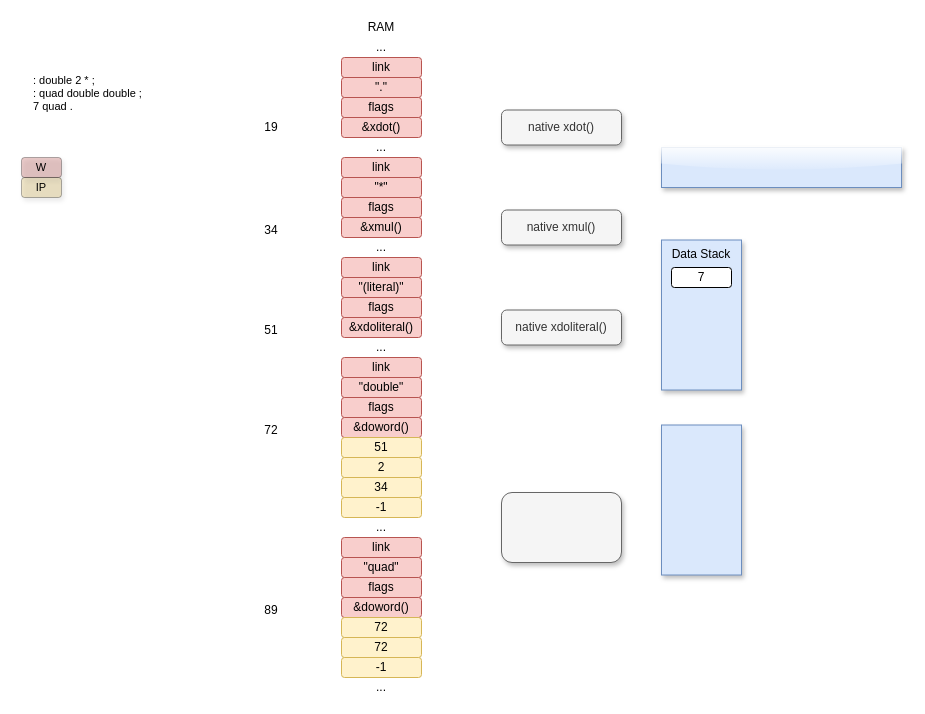
Some shapes in this 925 by 714 pixel diagram are drawn without their labels. Each missing label, with the centre of its shape:
BUFF (input stream) "quad .": point (782, 168)
native doword(): point (562, 529)
Return Stack: point (702, 501)
